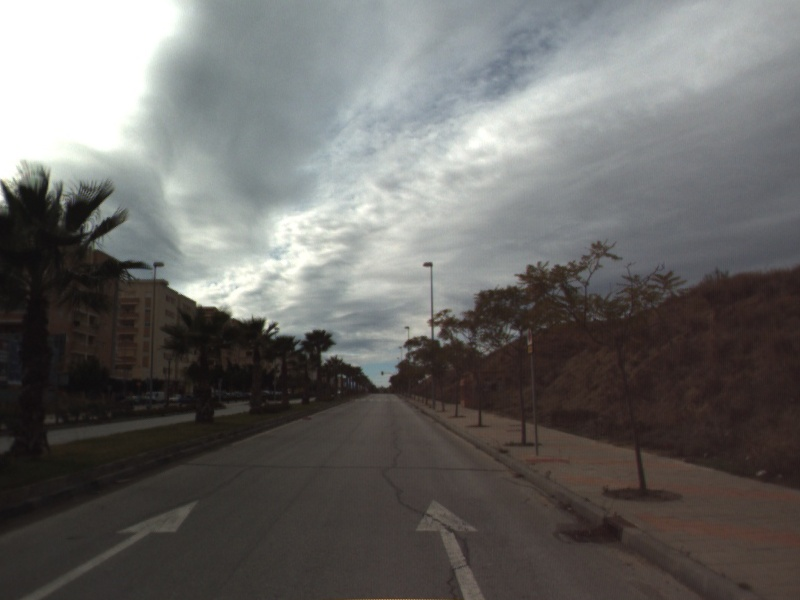STRAIGHT: (16, 497, 202, 600), (413, 497, 488, 600)
